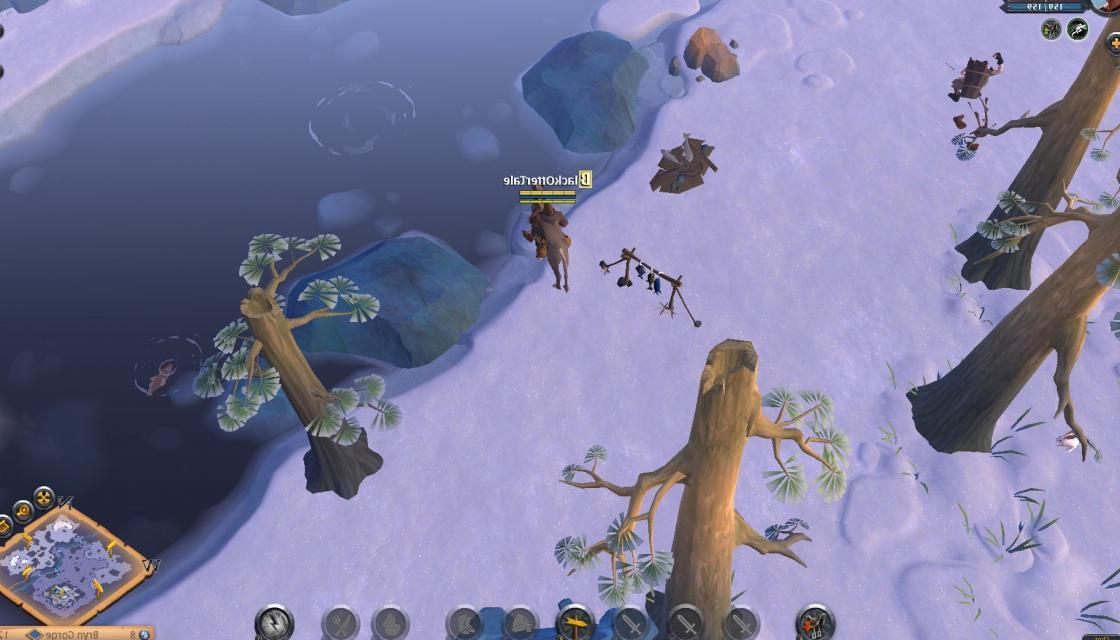limestone: (682, 20, 745, 84)
